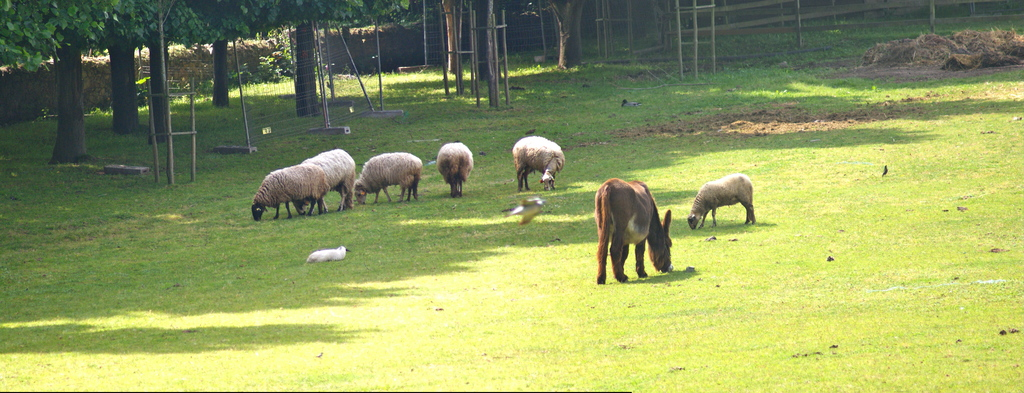sheep: (694, 171, 762, 233)
